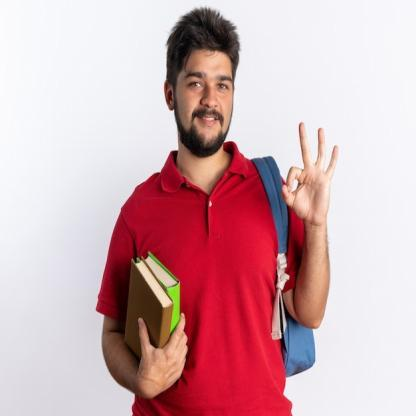ok: (281, 117, 340, 226)
